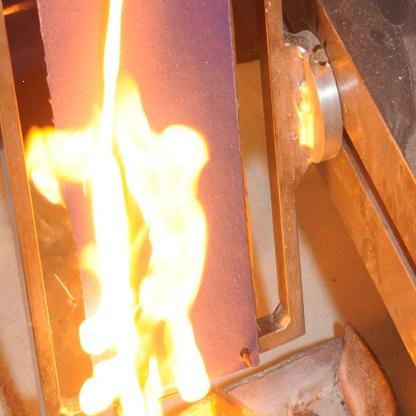fire: (14, 3, 215, 416)
